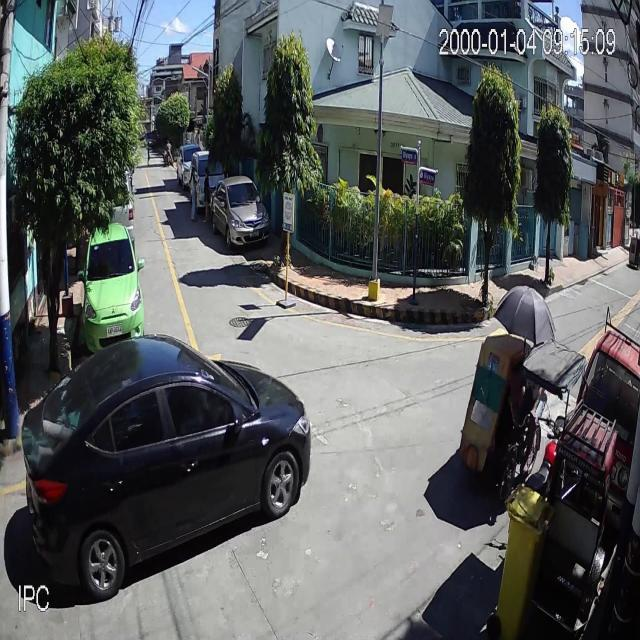standing: (188, 166, 200, 221), (201, 166, 211, 223)
walking: (146, 144, 152, 166)
